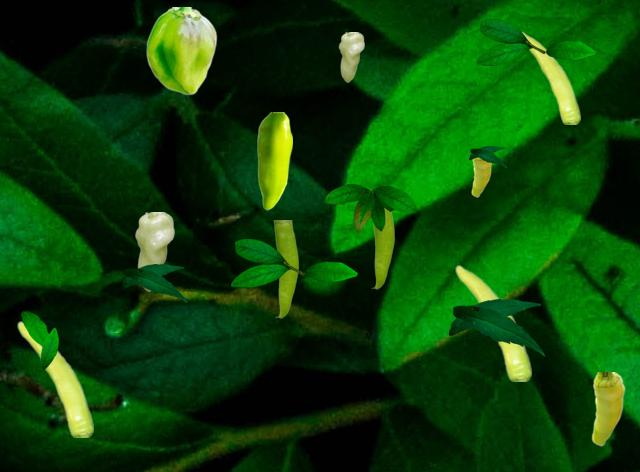green_chili: (17, 320, 92, 436), (455, 264, 530, 380), (146, 7, 216, 94), (522, 31, 579, 123), (257, 112, 291, 209), (134, 212, 173, 290), (591, 372, 624, 445), (273, 220, 297, 317), (370, 209, 393, 288), (338, 32, 363, 81), (471, 158, 491, 196)
